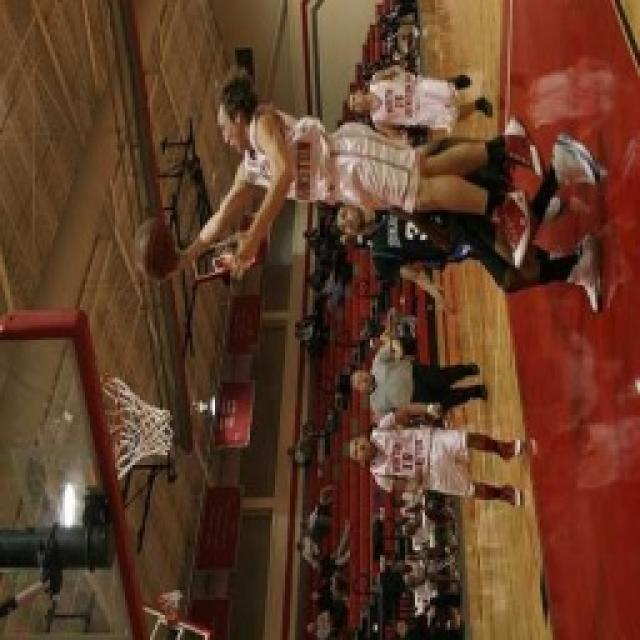rim: (129, 218, 186, 274)
